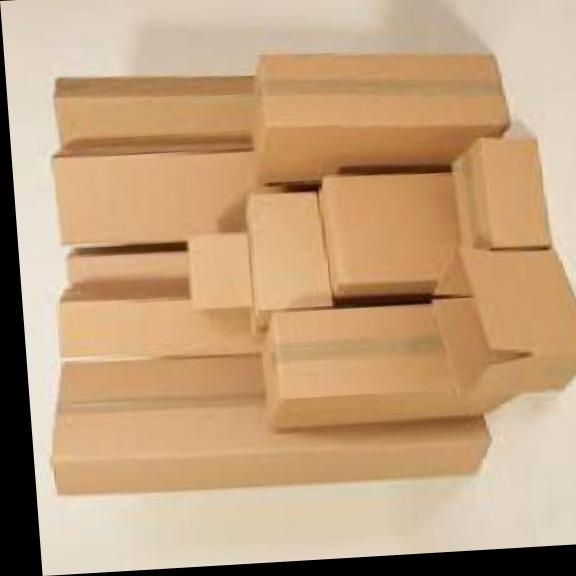Kertas: (39, 338, 487, 501), (244, 43, 512, 190), (253, 300, 516, 431), (50, 135, 293, 247), (49, 240, 263, 366), (428, 244, 576, 411), (313, 171, 476, 306), (48, 69, 259, 152), (239, 187, 333, 336), (443, 133, 548, 254), (183, 236, 251, 314)
